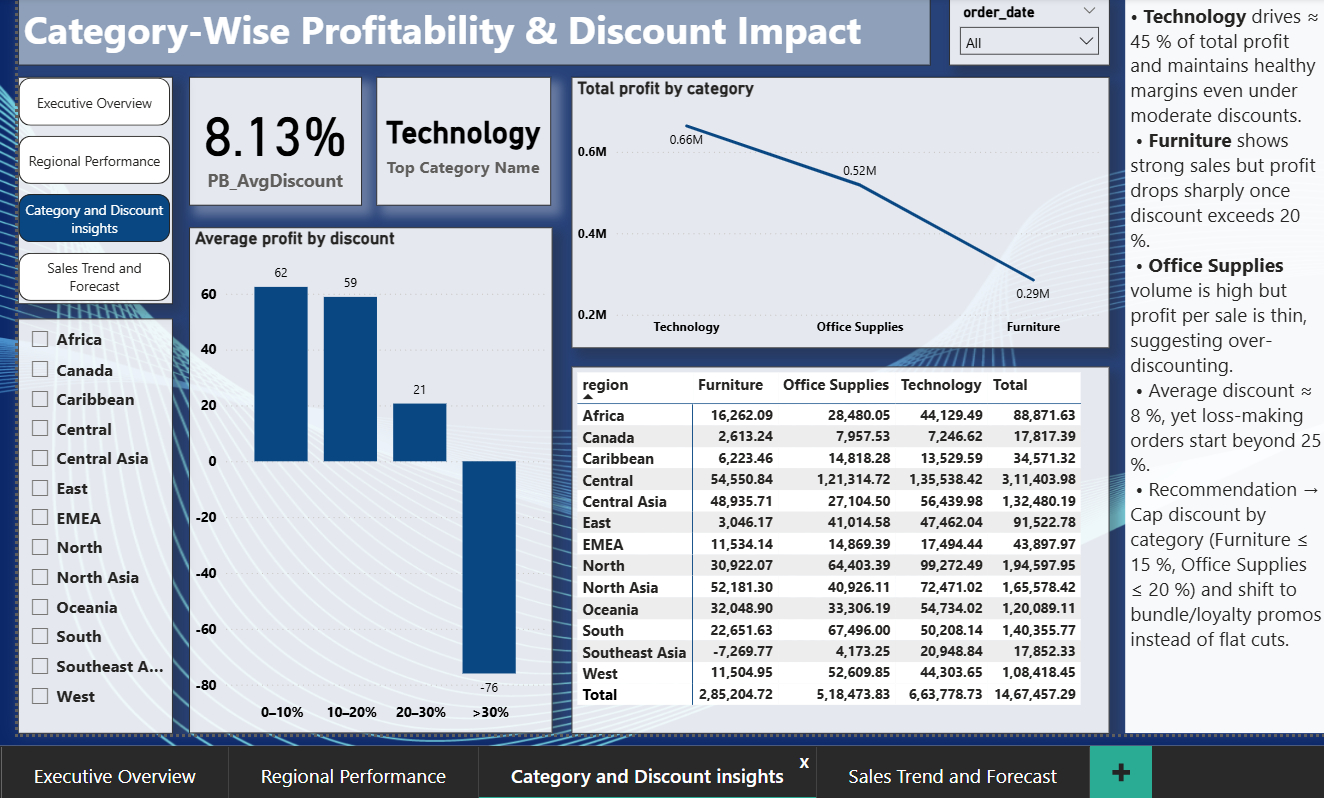

The dashboard page shown, as its layout file describes it:
{"tool":"powerbi","page":{"name":"Category and Discount insights","canvas":[1280,720],"ordinal":2},"visuals":[{"type":"textbox","box":[0,0,892.2,66.7],"z":0},{"type":"card","fields":{"Values":["superstore_engineered.PB_AvgDiscount"]},"box":[166.7,78.4,168.6,125.5],"z":1000},{"type":"card","fields":{"Values":["category_region_summary.Top Category Name"]},"box":[351,78.4,170.6,125.5],"z":2000},{"type":"slicer","fields":{"Values":["daily_kpi.order_date"]},"box":[909.8,0,156.9,66.7],"z":3000},{"type":"lineChart","title":"Total profit by category","fields":{"Y":["Sum(superstore_engineered.profit)"],"Category":["superstore_engineered.category"]},"box":[541.2,78.4,525.5,264.7],"z":4000},{"type":"pivotTable","fields":{"Rows":["category_region_summary.region"],"Columns":["category_region_summary.category"],"Values":["Sum(superstore_engineered.profit)"]},"box":[541.2,360.8,525.5,358.8],"z":5000},{"type":"columnChart","title":"Average profit by discount","fields":{"Category":["superstore_engineered.discount_band"],"Y":["Avg(superstore_engineered.profit)"]},"box":[166.7,225.5,354.9,494.1],"z":6000},{"type":"slicer","fields":{"Values":["region_summary.region"]},"box":[0,313.7,151,405.9],"z":7000},{"type":"textbox","box":[1082.4,0,198,719.6],"z":8000},{"type":"pageNavigator","box":[0,78.4,151,221.6],"z":9000}]}

Visuals, with their boxes in screenshot pixels (x1, y1, x2, y2):
textbox: Rect(17, 0, 927, 61)
card - superstore_engineered.PB_AvgDiscount: Rect(187, 73, 359, 201)
card - category_region_summary.Top Category Name: Rect(375, 73, 549, 201)
slicer - daily_kpi.order_date: Rect(945, 0, 1105, 61)
"Total profit by category" lineChart: Rect(569, 73, 1105, 343)
pivotTable - category_region_summary.region x category_region_summary.category: Rect(569, 361, 1105, 727)
"Average profit by discount" columnChart: Rect(187, 223, 549, 727)
slicer - region_summary.region: Rect(17, 313, 171, 727)
textbox: Rect(1121, 0, 1323, 727)
pageNavigator: Rect(17, 73, 171, 299)
